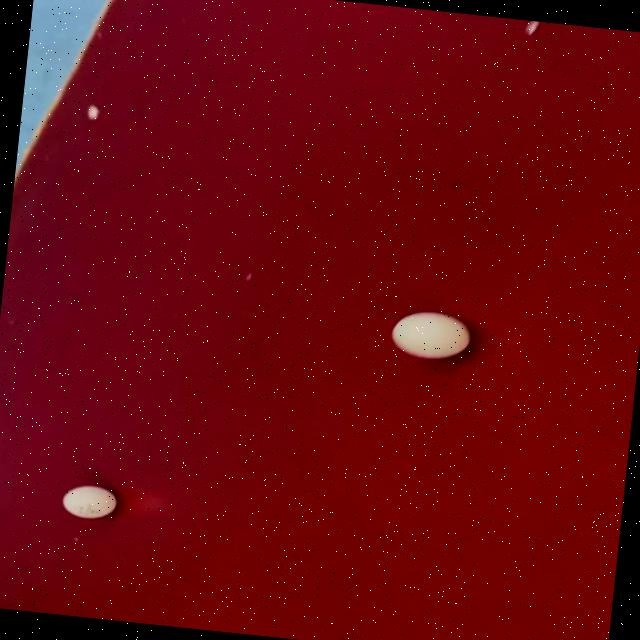ping-pong-ball: (386, 304, 474, 362), (56, 480, 122, 525)
